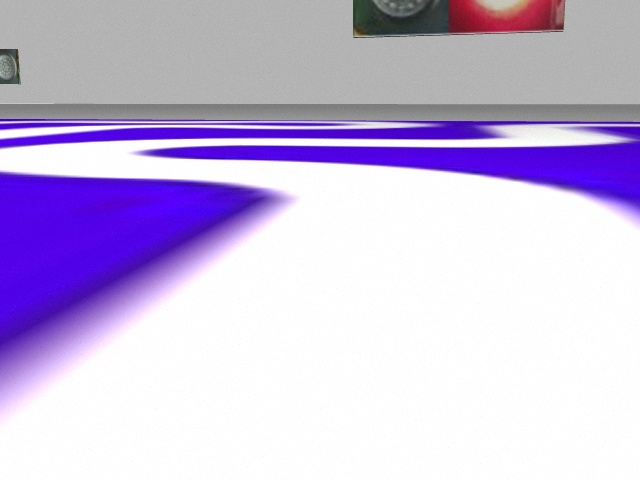red: (448, 2, 565, 33)
